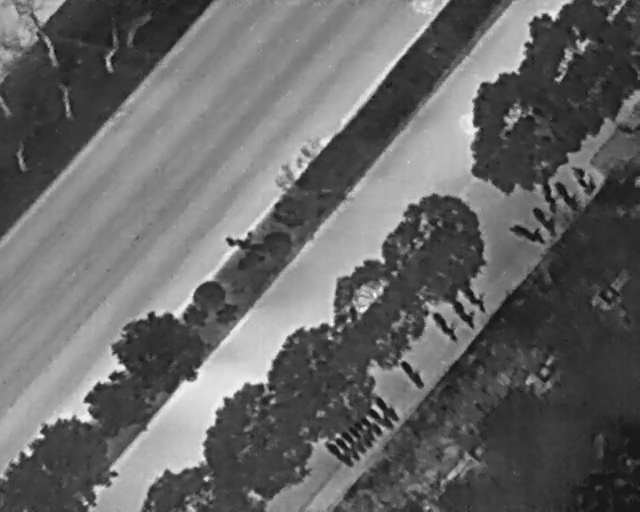Bicycle: (455, 274, 495, 317), (445, 292, 483, 334), (550, 175, 587, 216), (427, 305, 464, 346), (527, 202, 564, 241), (506, 216, 549, 249), (395, 353, 429, 391), (568, 160, 600, 198), (371, 392, 403, 425), (332, 432, 363, 464), (322, 438, 355, 468), (365, 406, 397, 434), (348, 422, 375, 451), (341, 427, 368, 456), (357, 413, 386, 439), (351, 418, 379, 443)
